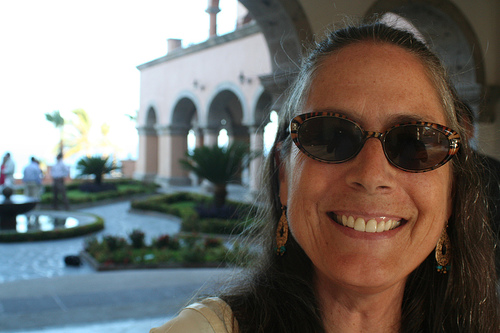without_mask: (254, 26, 484, 296)
